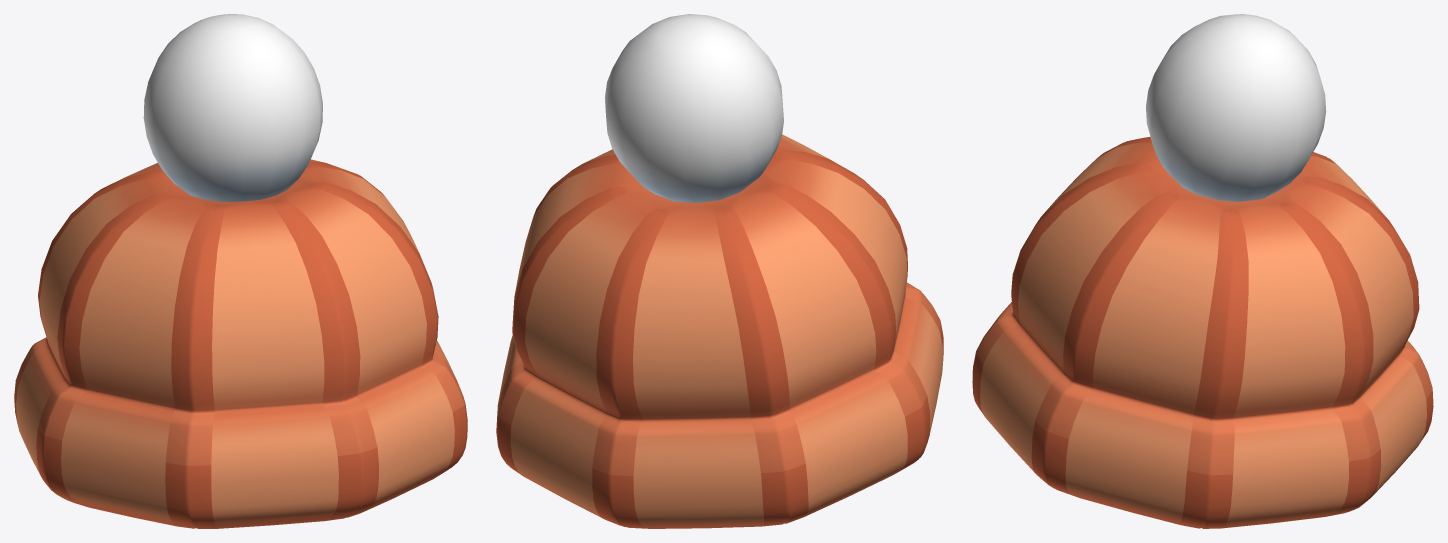
Rendered from HAT_beanie.fbx.
3 renders of one model, left to right at view 1: azimuth 30°, elevation 25°; view 2: azimuth 150°, elevation 25°; view 3: azimuth 270°, elevation 25°, orthographic.
Visible parts, largest first — view 1: beanie2; view 2: beanie2; view 3: beanie2.
Boxes of the visible parts, bbox=[...] form: beanie2: bbox=[14, 14, 467, 528]; beanie2: bbox=[496, 14, 943, 528]; beanie2: bbox=[972, 14, 1433, 528].
Size of the model in its own units: 90.6 by 95.68 by 90.26.
1 material, 1 textured.
